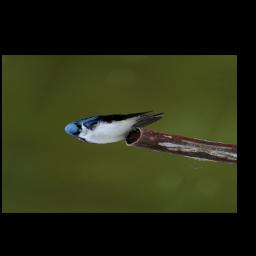Swallow: (59, 98, 167, 153)
